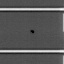dust: (30, 28, 35, 34)
